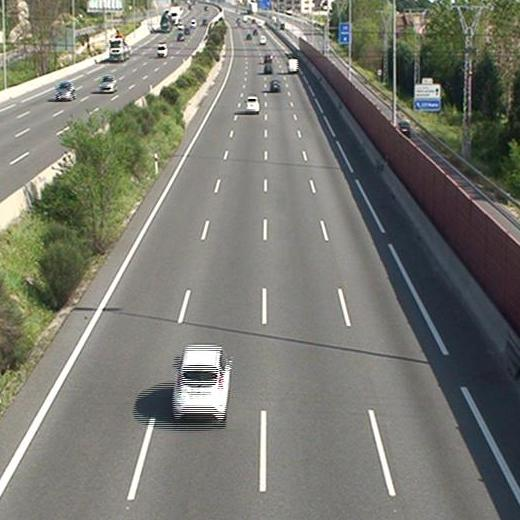car: (174, 348, 227, 419), (244, 96, 258, 113), (269, 79, 280, 92), (263, 63, 274, 74), (263, 53, 272, 63)
van: (287, 58, 298, 74)
